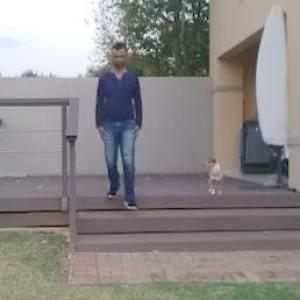follow: (94, 42, 137, 212)
